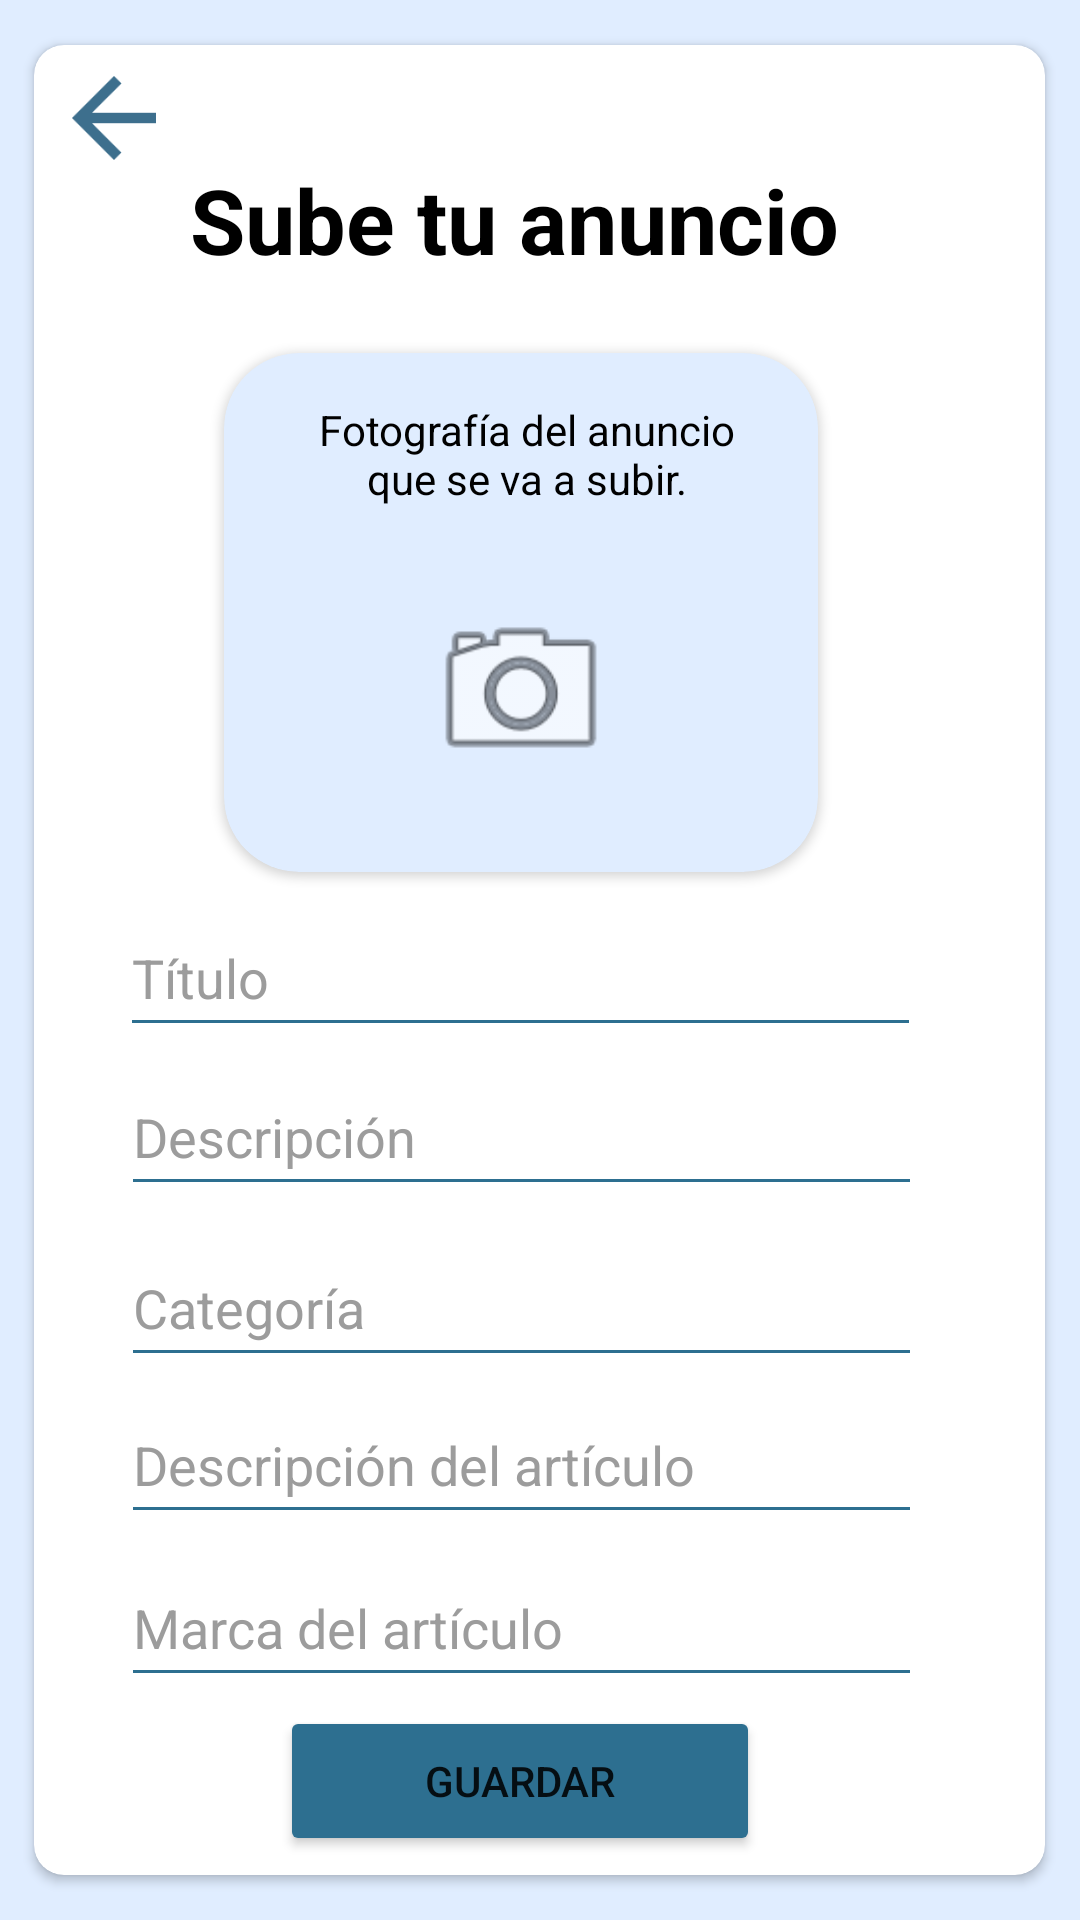

Icons on this 1080px×1920px Android screen, each with the point to tap as (x=x, y=y):
arrow back: (x=114, y=118)
camera: (x=521, y=687)
